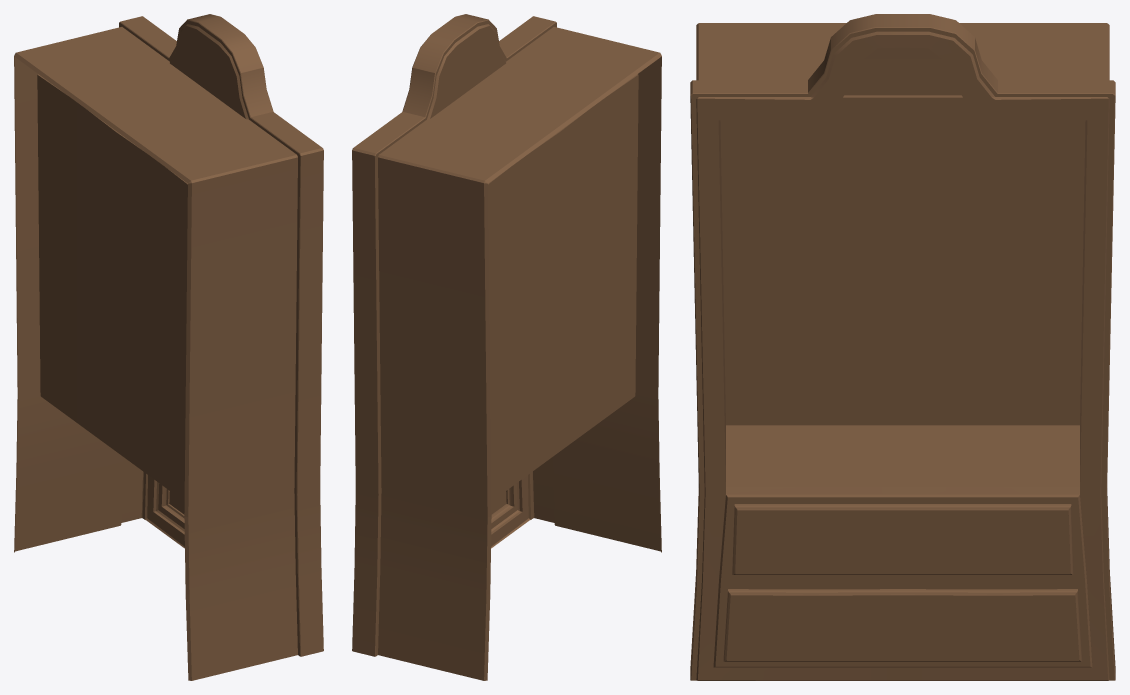
File: Closet.fbx
3 views of the same model, side by side, from view 1: azimuth 30°, elevation 25°; view 2: azimuth 150°, elevation 25°; view 3: azimuth 270°, elevation 25° (orthographic). The views are drawn at different scales.
Parts seen in each view (by area): view 1: Wardrobe; view 2: Wardrobe; view 3: Wardrobe.
Part boxes in pixels (x1,y1,x2,y2): Wardrobe: [14, 14, 323, 680]; Wardrobe: [352, 14, 661, 680]; Wardrobe: [690, 14, 1115, 680].
Bounding box in the file's own units: 3.54 × 13.16 × 7.76.
